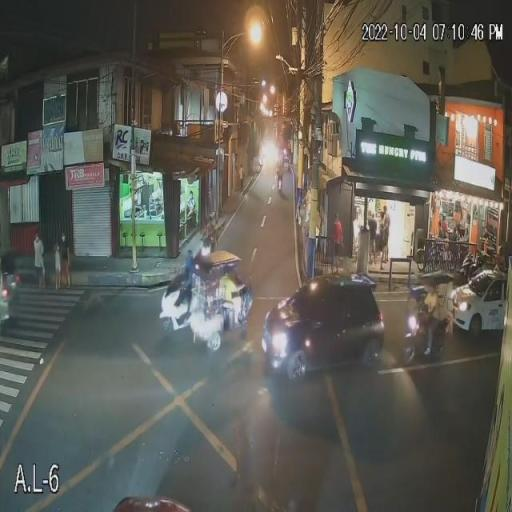motorcycle: (394, 308, 466, 366), (269, 171, 292, 196)
rider: (420, 282, 438, 358)
